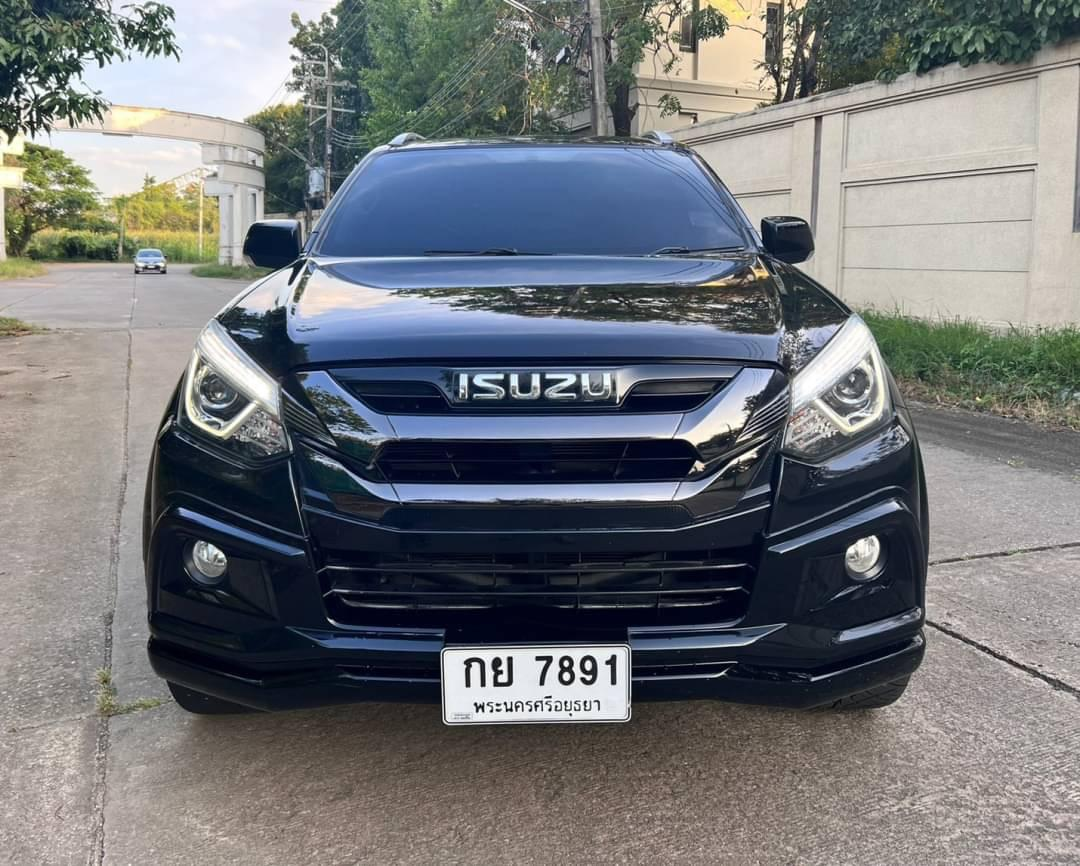license-plate: (434, 630, 650, 732)
